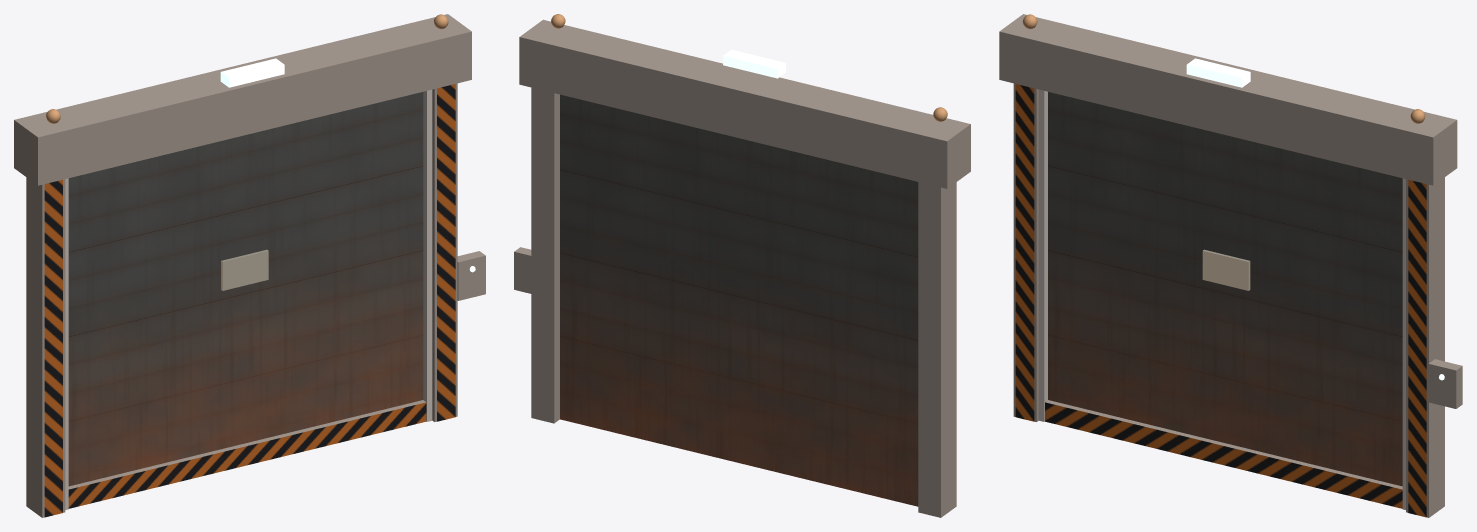
Rendered from P09_rollup_door.glb.
3 renders of one model, left to right at view 1: azimuth 30°, elevation 25°; view 2: azimuth 150°, elevation 25°; view 3: azimuth 330°, elevation 25°, orthographic.
Parts seen in each view (by area): view 1: door_slats, drum_housing, jamb_warning_stripes (×2), frame_jamb (×2), bottom_bar_warning, guide_rail (×2), door_window, control_box, door_light; view 2: door_slats, drum_housing, frame_jamb (×2), door_light, control_box; view 3: door_slats, drum_housing, jamb_warning_stripes (×2), frame_jamb (×2), bottom_bar_warning, guide_rail (×2), door_window, control_box, door_light.
Boxes of the visible parts, bbox=[...] form: door_slats: bbox=[68, 92, 423, 486]; drum_housing: bbox=[14, 14, 471, 185]; jamb_warning_stripes (×2): bbox=[44, 84, 455, 517]; frame_jamb (×2): bbox=[26, 83, 457, 517]; bottom_bar_warning: bbox=[68, 400, 426, 508]; guide_rail (×2): bbox=[65, 89, 432, 509]; door_window: bbox=[221, 249, 268, 290]; control_box: bbox=[457, 251, 485, 300]; door_light: bbox=[220, 58, 284, 87]; door_slats: bbox=[560, 94, 918, 506]; drum_housing: bbox=[519, 19, 970, 188]; frame_jamb (×2): bbox=[531, 87, 956, 517]; door_light: bbox=[723, 49, 785, 78]; control_box: bbox=[514, 247, 531, 293]; door_slats: bbox=[1048, 92, 1402, 486]; drum_housing: bbox=[999, 14, 1457, 185]; jamb_warning_stripes (×2): bbox=[1015, 84, 1426, 517]; frame_jamb (×2): bbox=[1013, 83, 1444, 517]; bottom_bar_warning: bbox=[1045, 400, 1402, 508]; guide_rail (×2): bbox=[1038, 89, 1405, 509]; door_window: bbox=[1202, 249, 1250, 290]; control_box: bbox=[1428, 359, 1462, 408]; door_light: bbox=[1186, 58, 1250, 87].
Bounding box in the file's own units: 4.9 × 4.17 × 0.485.
Materials: 7 (2 with a texture image).
